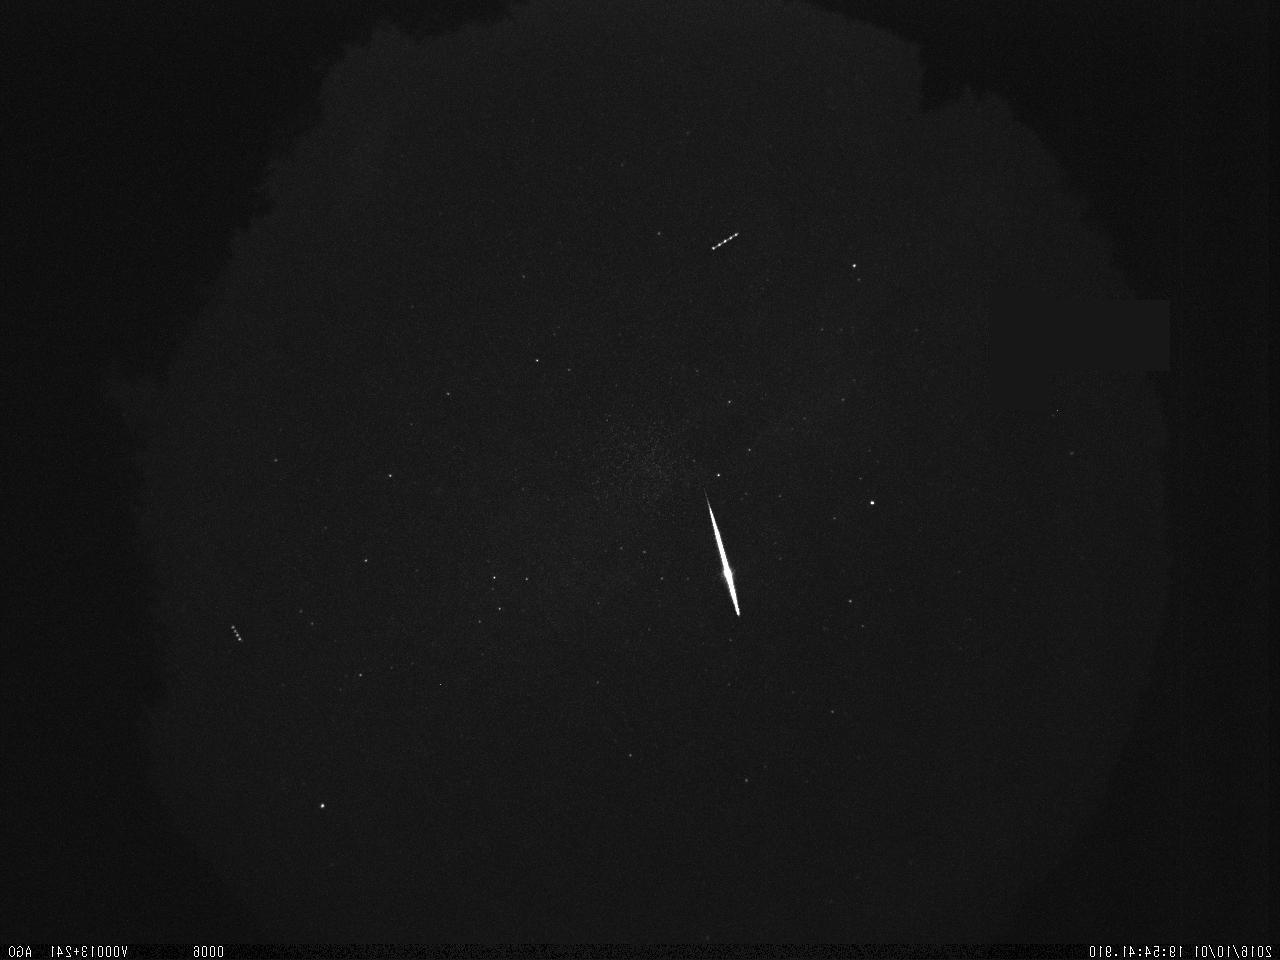meteor: (692, 480, 755, 633)
satelite: (700, 226, 743, 260), (224, 617, 250, 650)
